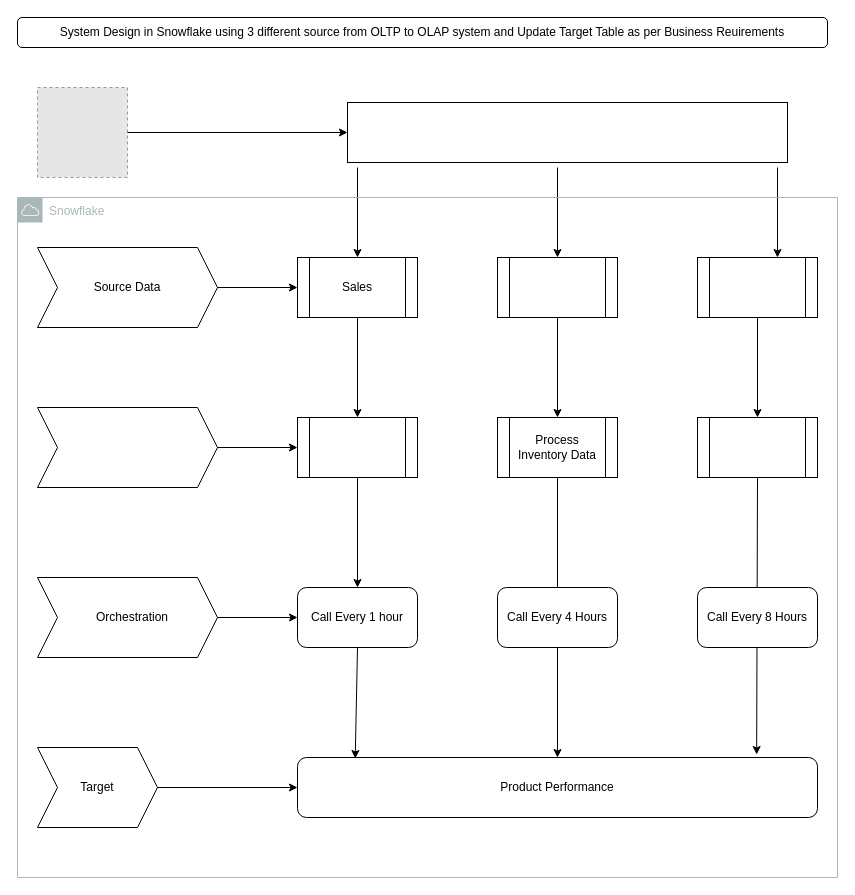
Some shapes in this 855 by 895 pixel diagram are drawn without their labels. Grey dashed boxes stand in for pictures. The centre of each missing label's shape, as x and y in pixels:
Data Ingestion from Excel into OLTP using Python Pandas into Snowflake: pixel 567 132
Inventory: pixel 557 287
Procedure to Update Target Table: pixel 127 447
Process Product Data: pixel 757 447
Process Sales Data: pixel 357 447
Product: pixel 757 287
